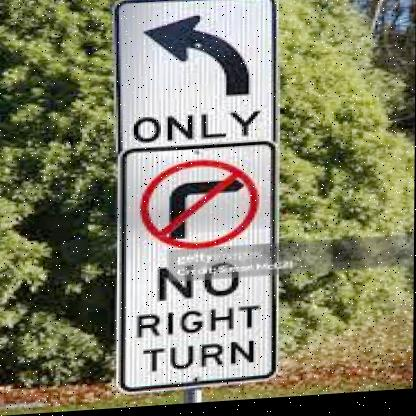No right turn: (126, 153, 272, 264)
